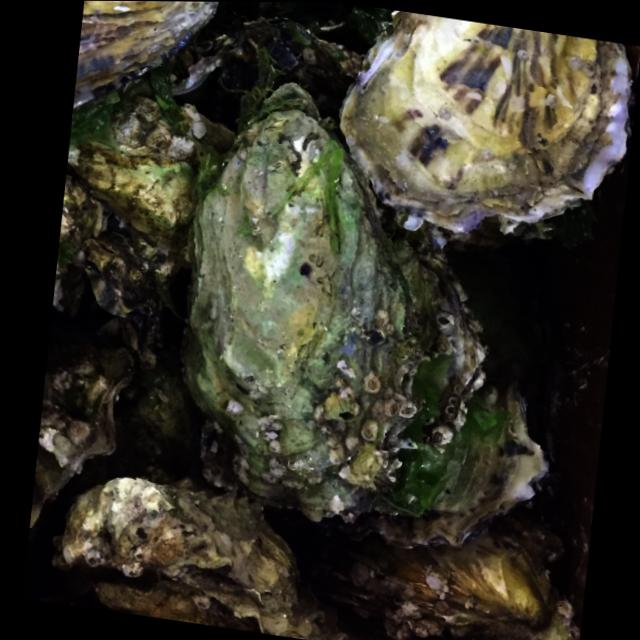Oyster-Closed: (339, 11, 632, 233)
Oyster-Indeterminate: (181, 85, 485, 519), (55, 478, 371, 640), (321, 378, 546, 549), (304, 515, 577, 640), (67, 309, 225, 496), (67, 62, 206, 267), (30, 344, 135, 528), (78, 223, 182, 367), (74, 1, 218, 104), (446, 250, 552, 382), (217, 18, 363, 111), (52, 180, 121, 319)
